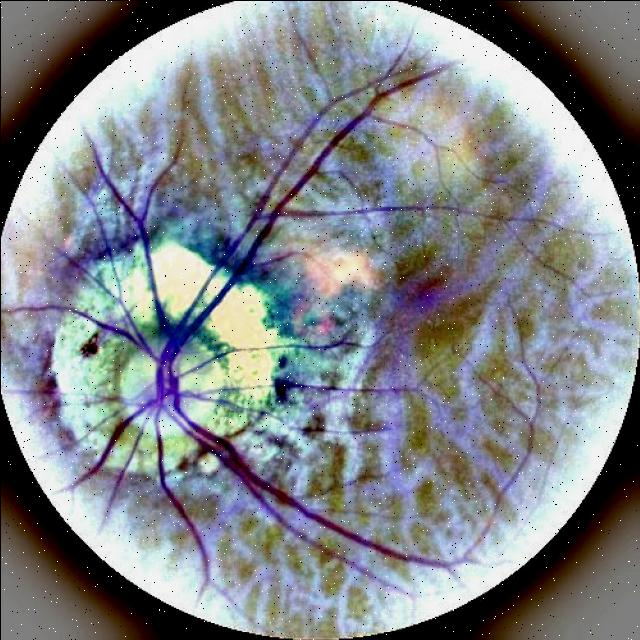Macula: (387, 248, 463, 323)
Nerves: (27, 45, 447, 591)
Optic Disk: (122, 333, 219, 430)
